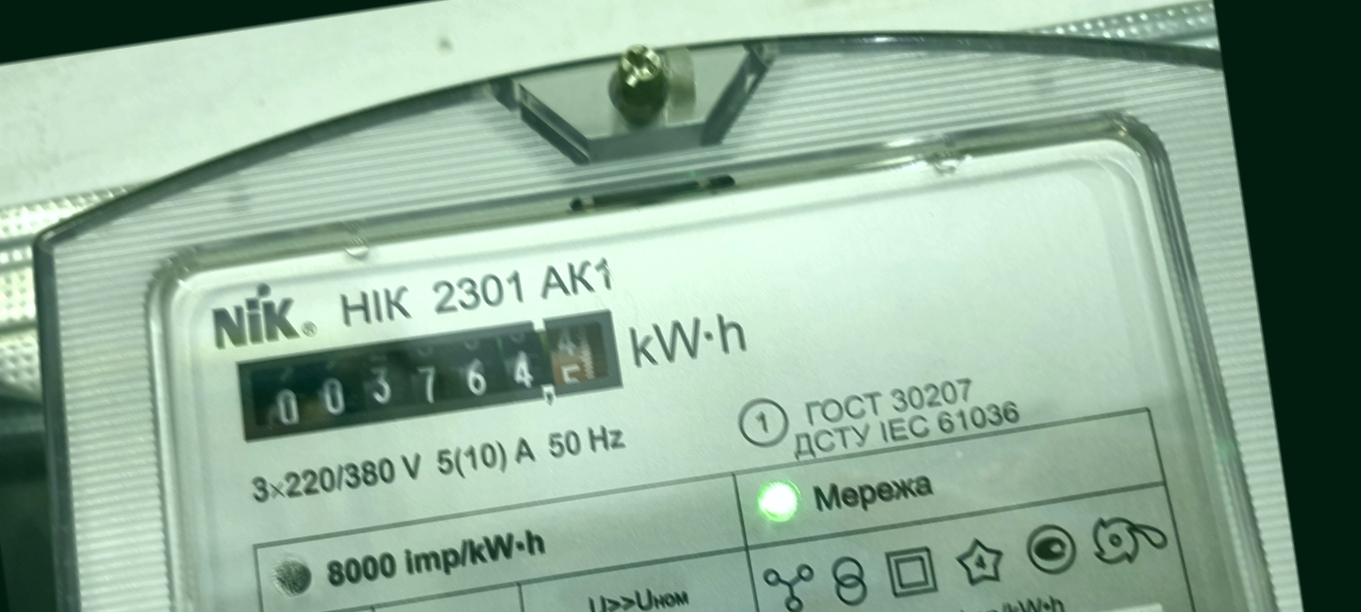0: (319, 374, 347, 416), (272, 385, 301, 425)
3: (366, 363, 394, 405)
4: (510, 348, 535, 389), (553, 323, 579, 357)
5: (558, 361, 583, 385)
6: (463, 355, 488, 397)
7: (414, 360, 443, 405)
screen: (217, 289, 639, 458)
